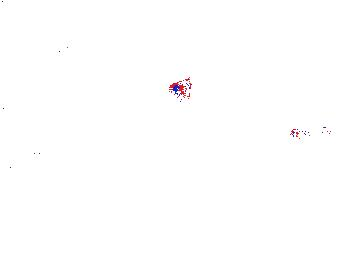X-ray fish: (26, 133, 69, 169)
red belly glassfish: (288, 119, 331, 142), (164, 77, 195, 102)
